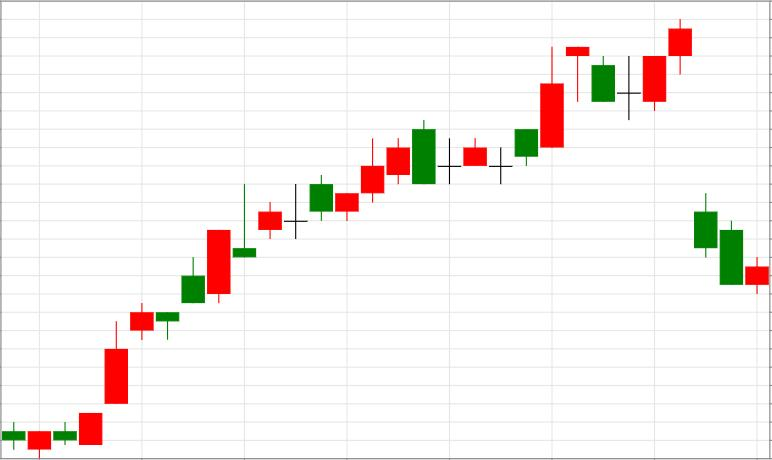bearish_engulfing_fall: (258, 120, 436, 239)
evening_star_fall: (463, 46, 615, 184)
